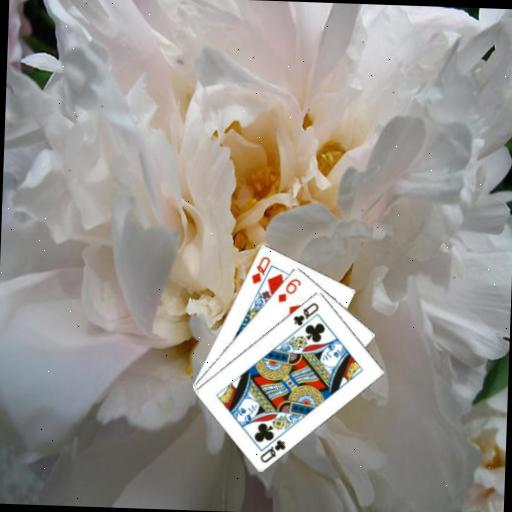6D: (275, 274, 303, 304)
QC: (289, 298, 320, 328), (257, 435, 287, 464)
QD: (247, 253, 271, 286)
